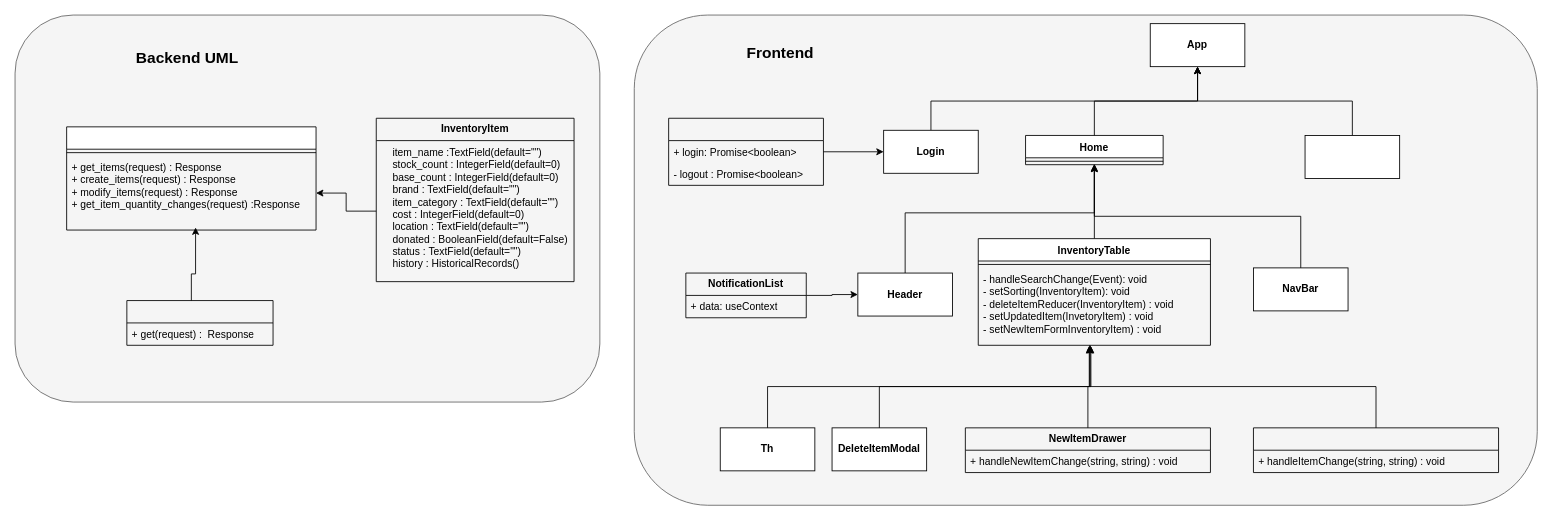
The diagram is 1552 pixels wide and 520 high, and some of its shapes have lost their labels. Each missing label, with the box of its shape:
Analytics: (1304, 135, 1400, 178)
AuthContext: (668, 117, 823, 185)
DownloadCSV: (126, 300, 273, 345)
EditItemDrawer: (1253, 427, 1499, 473)
Views: (66, 126, 316, 230)
